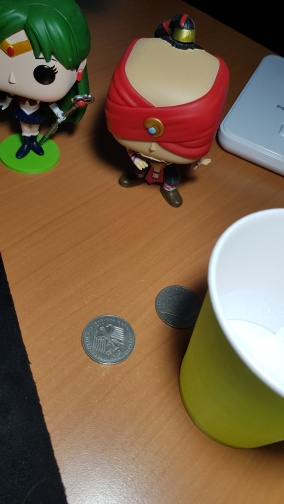coin: (80, 314, 136, 366), (154, 284, 202, 329)
